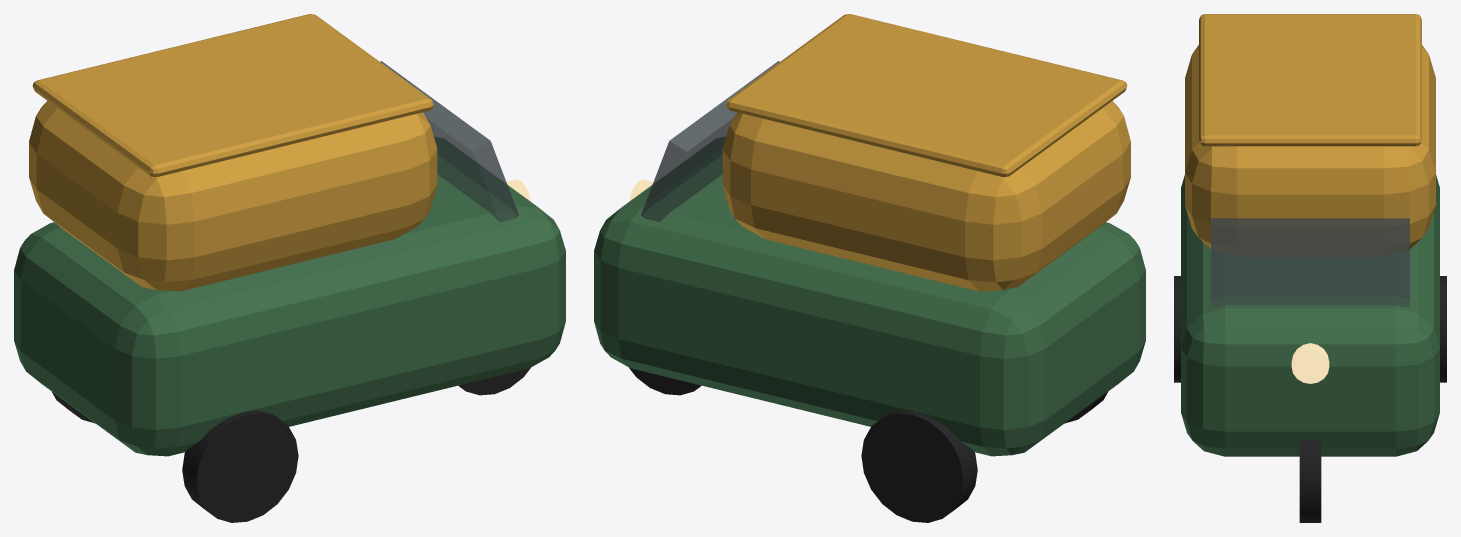
The model's file is KIT_AUTO.glb.
3 renders of one model, left to right at view 1: azimuth 30°, elevation 25°; view 2: azimuth 150°, elevation 25°; view 3: azimuth 270°, elevation 25°, orthographic. The views are drawn at different scales.
Visible parts, largest first — view 1: KIT_AUTO; view 2: KIT_AUTO; view 3: KIT_AUTO.
Boxes of the visible parts, x1,y1,x2,y2 form: KIT_AUTO: (14,14,565,522); KIT_AUTO: (594,14,1145,522); KIT_AUTO: (1174,14,1446,522).
Bounding box in the file's own units: 2.48 × 1.83 × 1.37.
